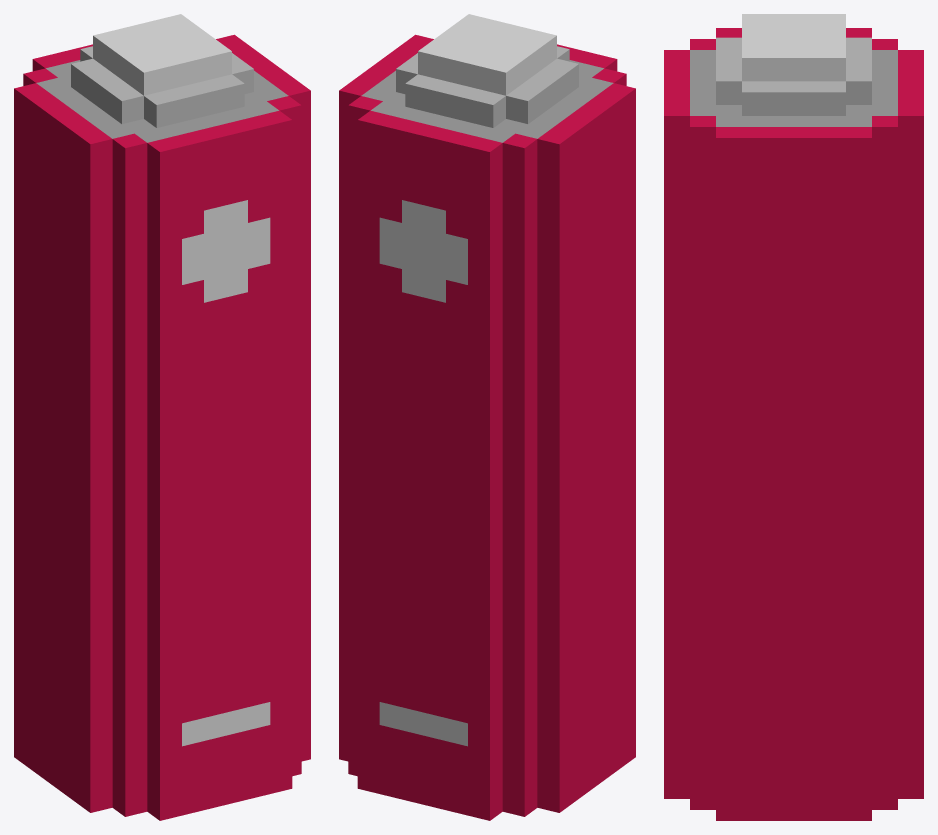
Rendered from battery_2_1.2r.obj.
3 renders of one model, left to right at view 1: azimuth 30°, elevation 25°; view 2: azimuth 150°, elevation 25°; view 3: azimuth 270°, elevation 25°, orthographic. The views are drawn at different scales.
Bounding box in the file's own units: 1 × 3.1 × 1.
1 material, 1 textured.
